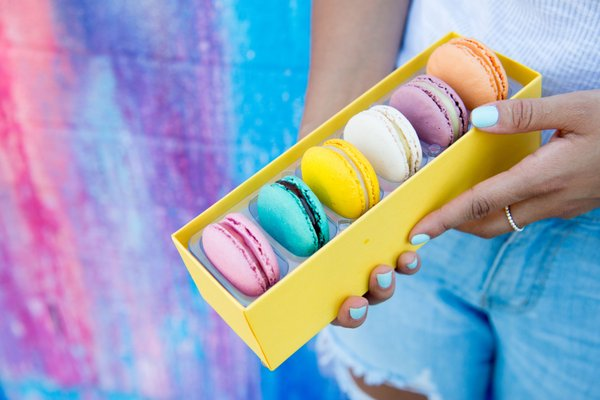soup: (190, 104, 542, 369)
